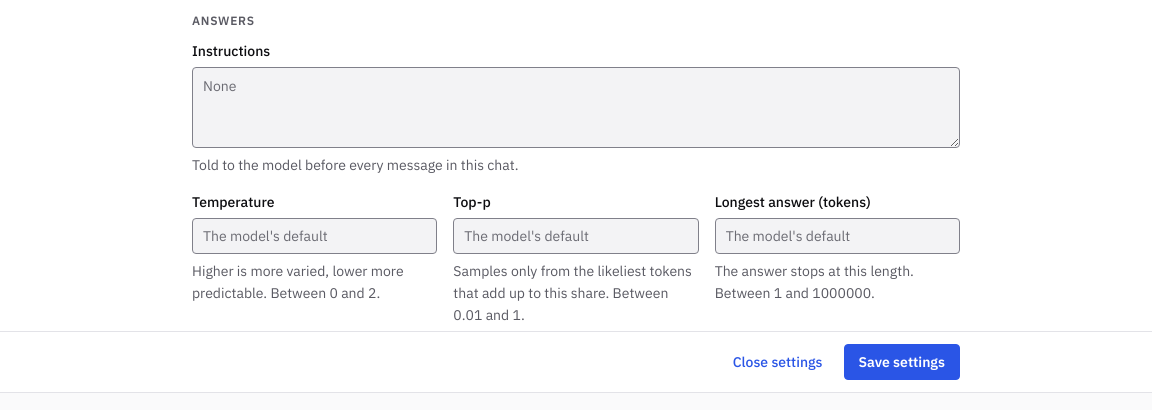
Scenario: a number out of range › marks no field when the save itself is refused, and says what Workbench said
Click the button "Save settings": (902, 362) [844, 344, 960, 380]
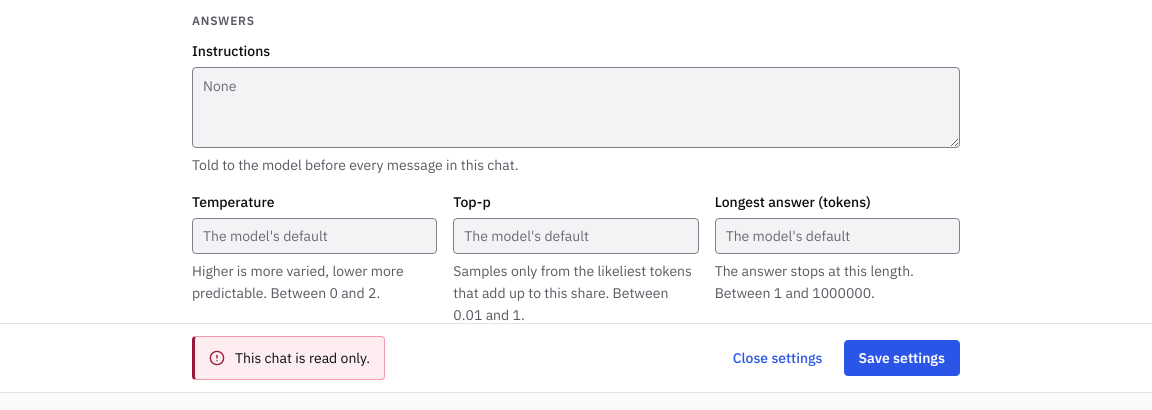
Now the message reads "This chat is read only.", box [235, 349, 370, 367]
